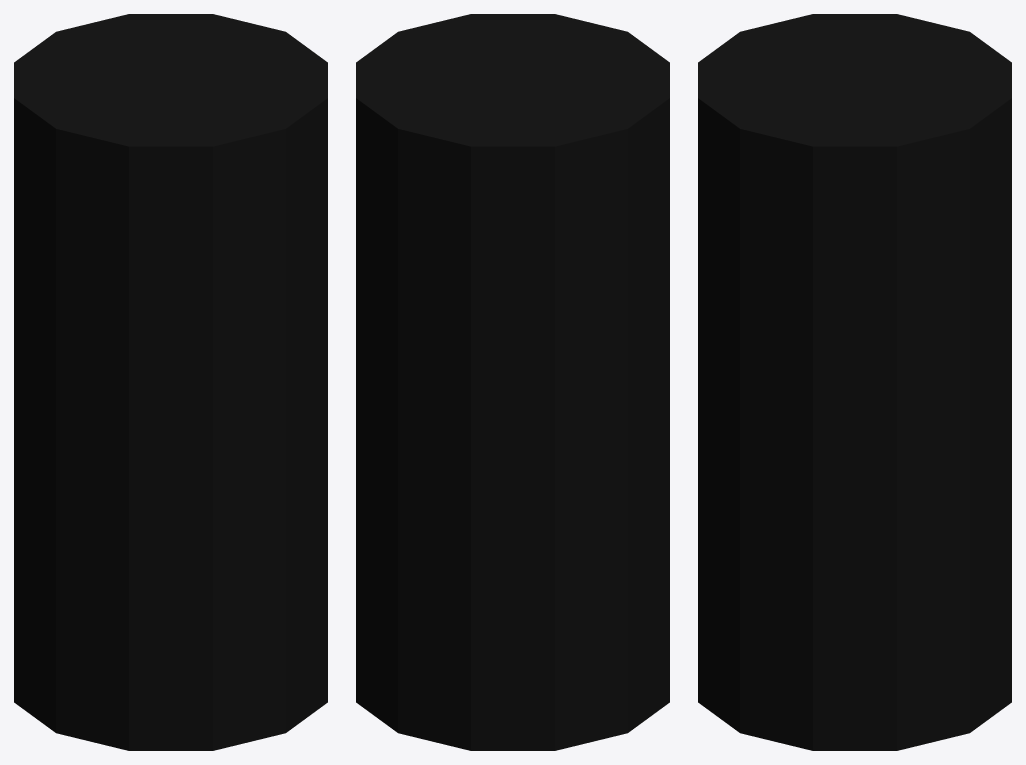
The model's file is WireBase.obj.
3 renders of one model, left to right at view 1: azimuth 30°, elevation 25°; view 2: azimuth 150°, elevation 25°; view 3: azimuth 270°, elevation 25°, orthographic.
Visible parts, largest first — view 1: cylinder; view 2: cylinder; view 3: cylinder.
Part boxes in pixels (x1=…): cylinder: x1=14, y1=14, x2=327, y2=750; cylinder: x1=356, y1=14, x2=669, y2=750; cylinder: x1=698, y1=14, x2=1011, y2=750.
Bounding box in the file's own units: 1 × 2.12 × 1.
1 material, 1 textured.
